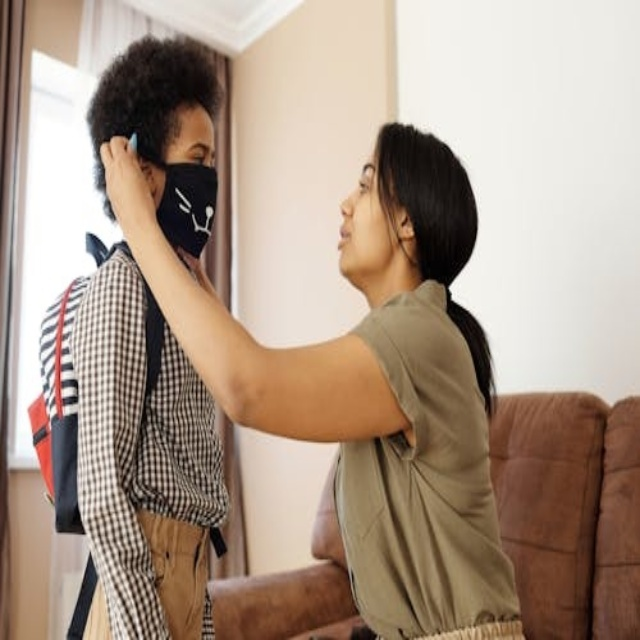Mascara: (135, 139, 217, 258)
Sin_gafas: (175, 187, 191, 211), (361, 163, 375, 186), (189, 154, 207, 166), (209, 150, 216, 164)
Sin_mascara: (338, 227, 352, 249)
